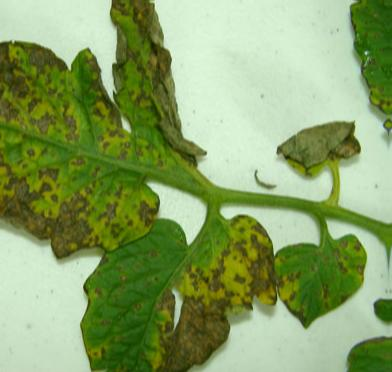Tomato Septoria leaf spot: (0, 36, 168, 257), (75, 204, 294, 372), (103, 0, 226, 167), (271, 227, 369, 335), (344, 0, 392, 182), (324, 289, 392, 372)
